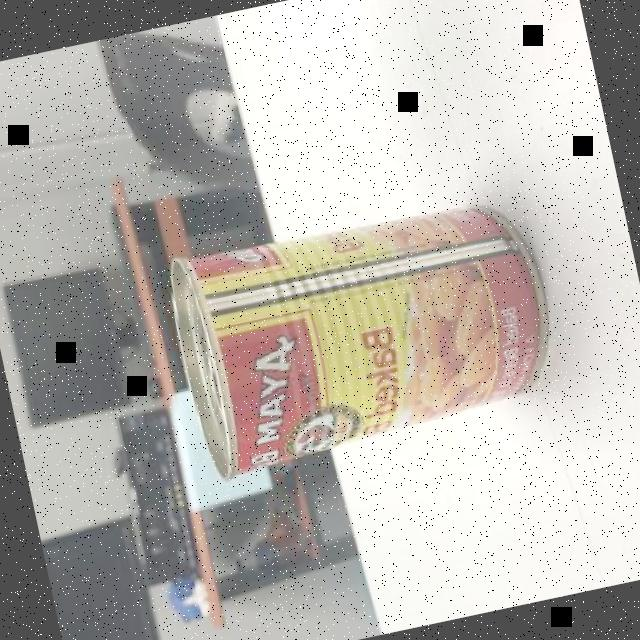can: (162, 190, 570, 480)
